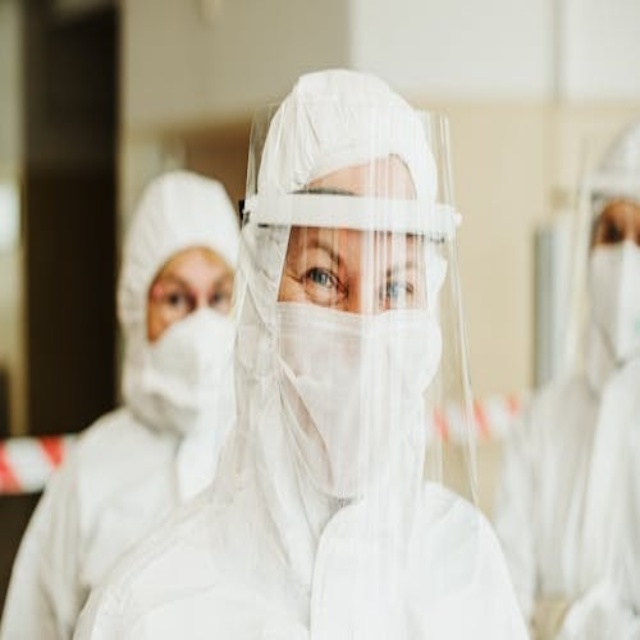Mascara: (270, 287, 443, 502), (129, 309, 237, 446), (587, 238, 640, 364)
Sin_gafas: (287, 231, 435, 308), (150, 265, 233, 313), (589, 208, 640, 244)
